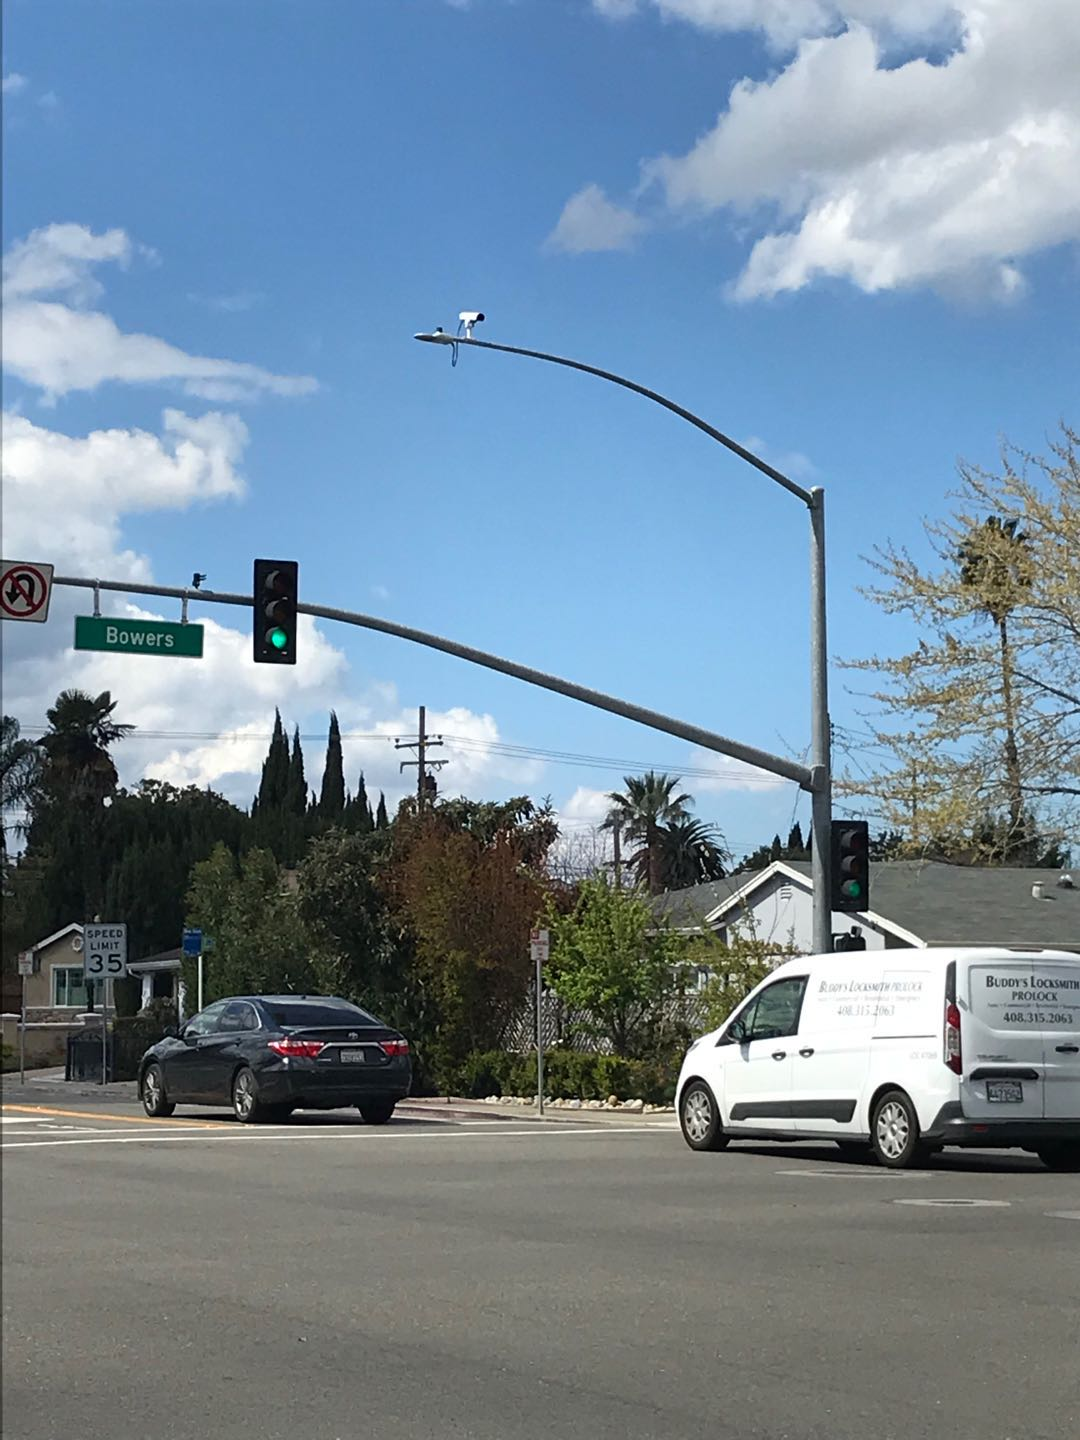green_light: (258, 561, 295, 658), (833, 819, 870, 909)
